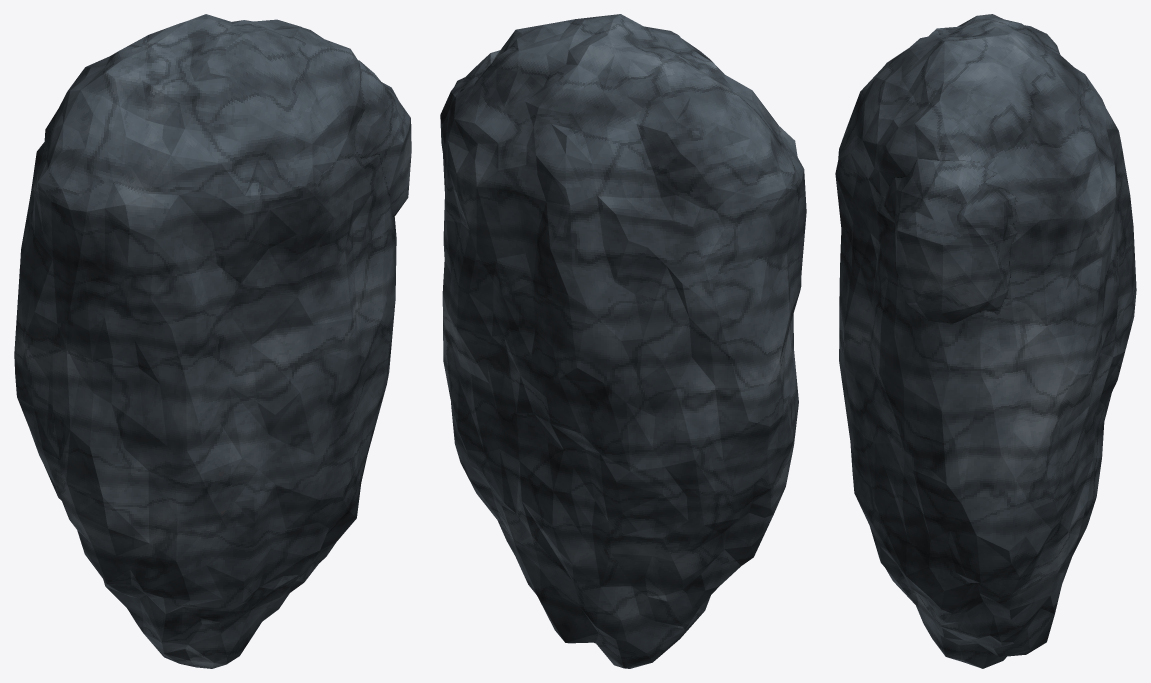
File: ramp_snow_rock_big_b.glb
3 views of the same model, side by side, from view 1: azimuth 30°, elevation 25°; view 2: azimuth 150°, elevation 25°; view 3: azimuth 270°, elevation 25° (orthographic).
Visible parts, largest first — view 1: ramp_snow_rock_big_b; view 2: ramp_snow_rock_big_b; view 3: ramp_snow_rock_big_b.
Part boxes in pixels (x1,y1,x2,y2): ramp_snow_rock_big_b: [14, 14, 411, 668]; ramp_snow_rock_big_b: [440, 14, 806, 668]; ramp_snow_rock_big_b: [835, 14, 1136, 668].
Bounding box in the file's own units: 1.69 × 2.9 × 1.25.
Materials: 1 (1 with a texture image).
